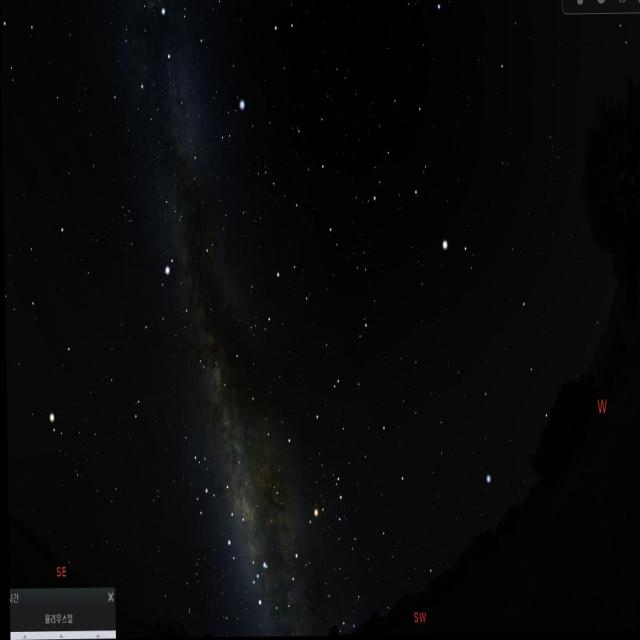aquila: (140, 235, 216, 377)
bootes: (369, 77, 474, 284)
cygnus: (132, 0, 212, 182)
lyra: (214, 94, 252, 148)
sagittarius: (183, 470, 251, 576)
scorpius: (247, 456, 356, 616)
